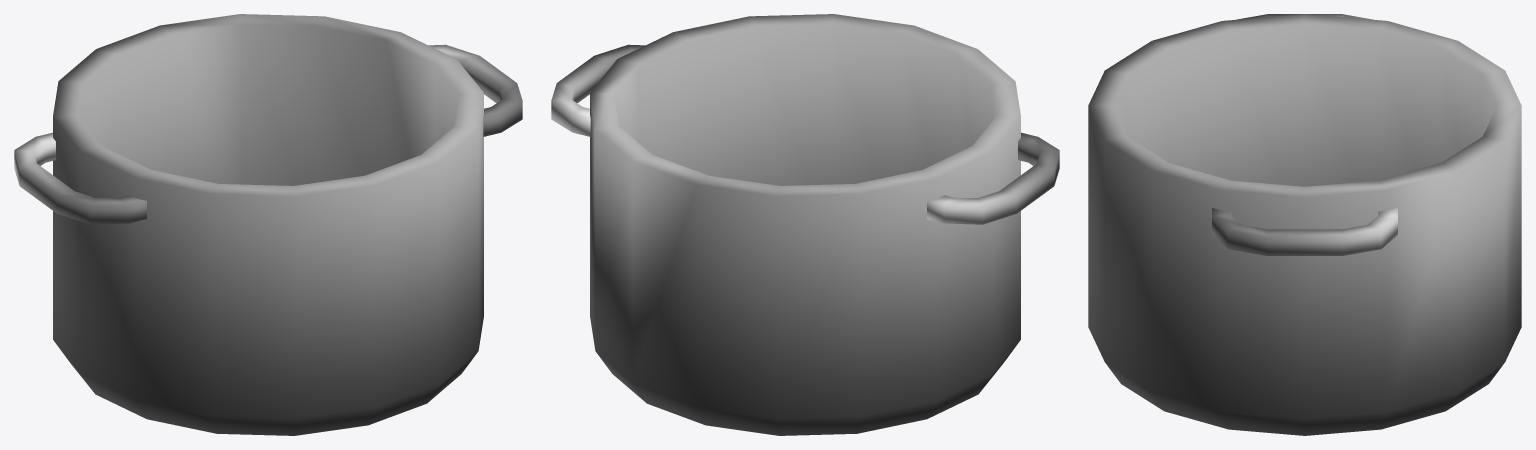
The model's file is Pot.fbx.
3 renders of one model, left to right at view 1: azimuth 30°, elevation 25°; view 2: azimuth 150°, elevation 25°; view 3: azimuth 270°, elevation 25°, orthographic.
Visible parts, largest first — view 1: Pot; view 2: Pot; view 3: Pot.
Part boxes in pixels (left/top/right/bottom): Pot: left=14, top=14, right=522, bottom=435; Pot: left=551, top=14, right=1059, bottom=435; Pot: left=1088, top=14, right=1521, bottom=435.
Size of the model in its own units: 94.54 by 50.55 by 77.41.
Materials: 1 (1 with a texture image).
